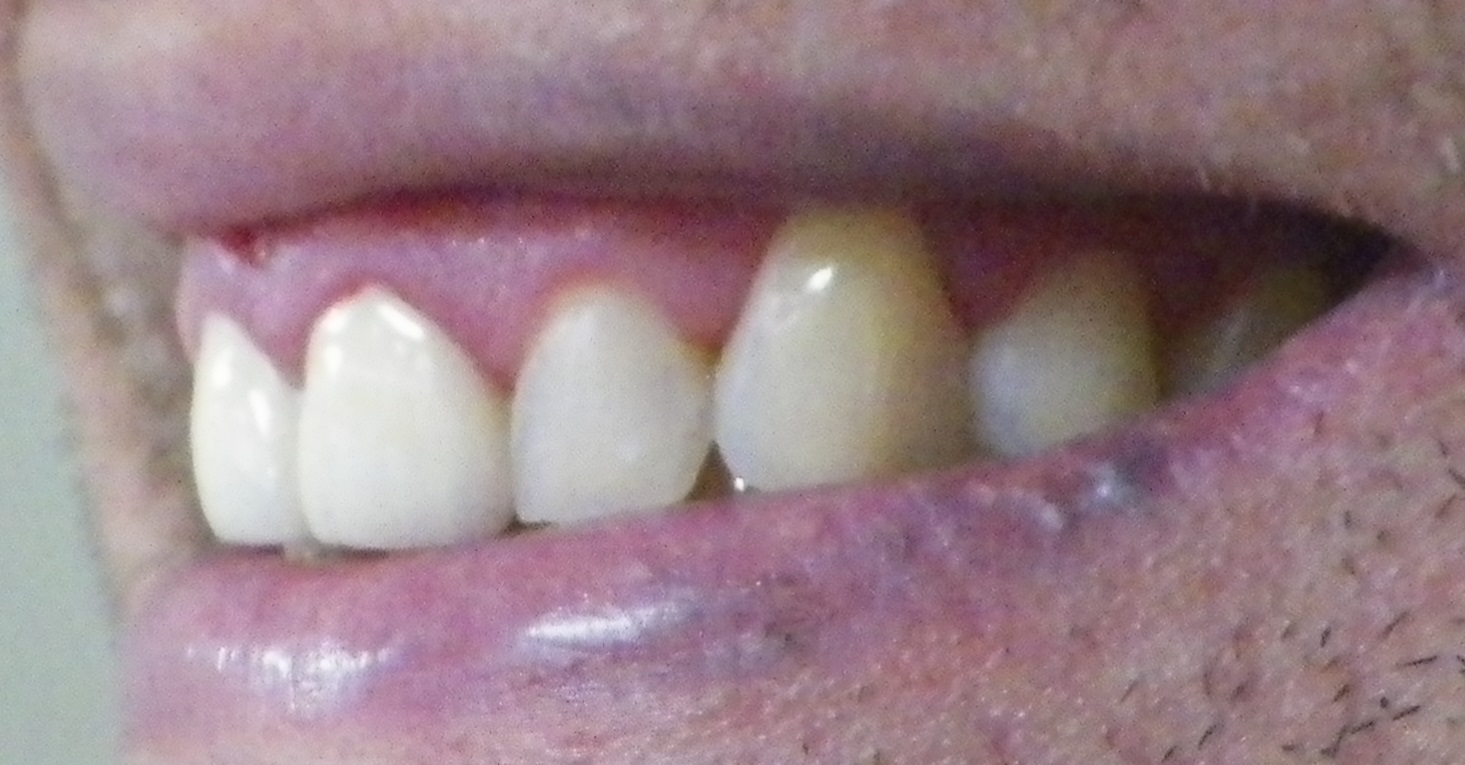boca: (177, 197, 1330, 555)
